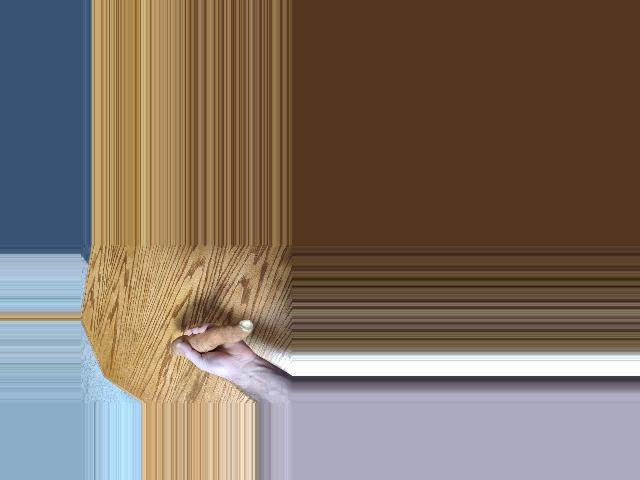sweet_potato: (167, 320, 258, 354)
